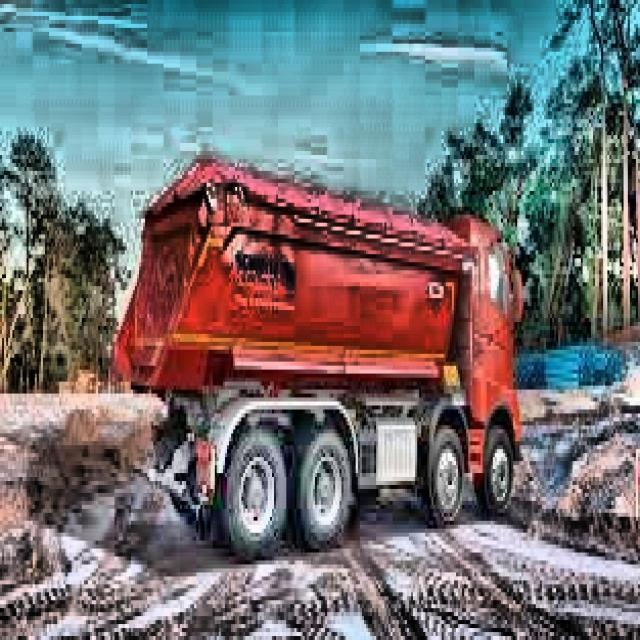dump_truck: (110, 157, 522, 556)
